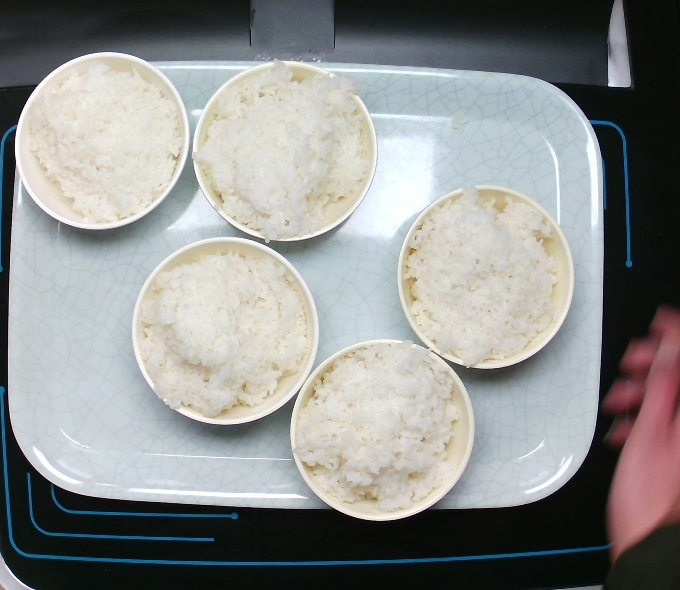wcq-MiFan: (289, 340, 472, 508), (131, 250, 314, 418), (190, 71, 373, 239), (396, 189, 564, 368), (26, 62, 187, 228)
